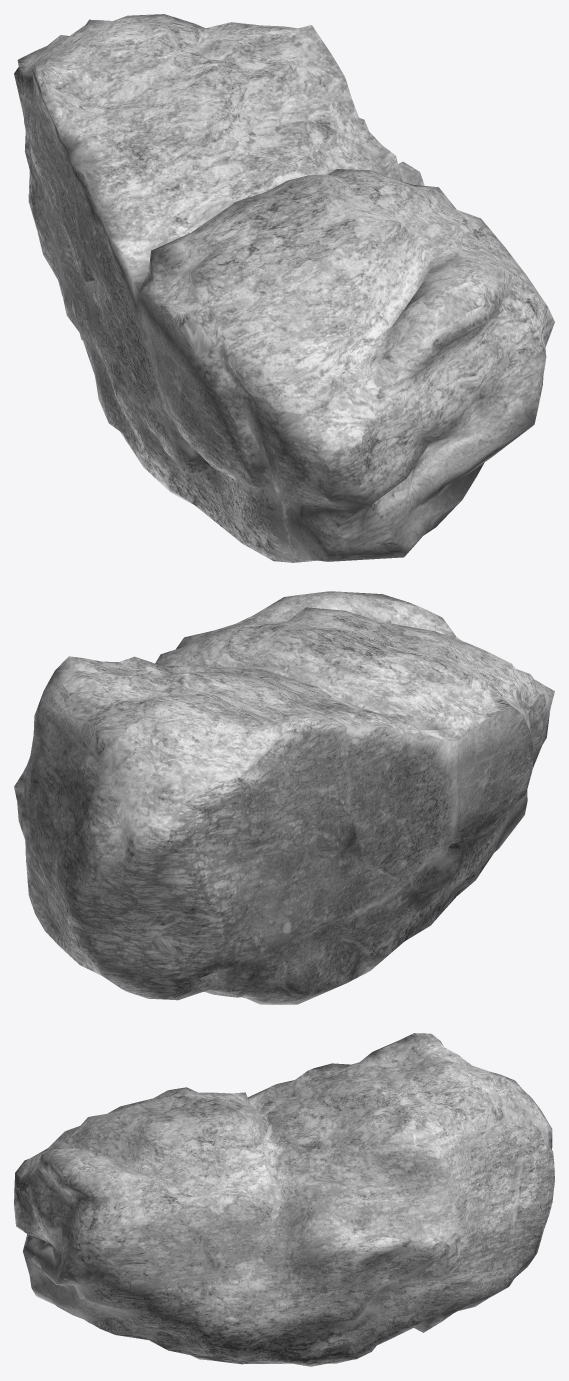
File: namaqualand_boulder_06.glb
3 renders of one model, top to bottom at view 1: azimuth 30°, elevation 25°; view 2: azimuth 150°, elevation 25°; view 3: azimuth 270°, elevation 25°, orthographic. The views are drawn at different scales.
Parts seen in each view (by area): view 1: namaqualand_boulder_06; view 2: namaqualand_boulder_06; view 3: namaqualand_boulder_06.
Boxes of the visible parts, x1,y1,x2,y2 form: namaqualand_boulder_06: (14, 14, 554, 562); namaqualand_boulder_06: (14, 591, 554, 1004); namaqualand_boulder_06: (14, 1033, 554, 1366).
Bounding box in the file's own units: 0.6732 × 0.6487 × 1.2.
1 material, 1 textured.
